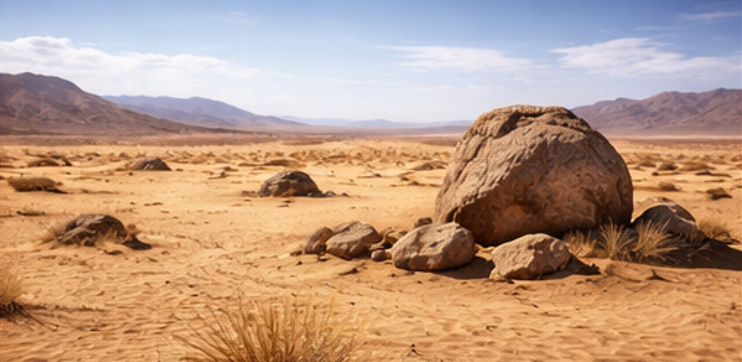rocks: (435, 106, 631, 245), (390, 222, 476, 270), (491, 233, 569, 278), (55, 213, 150, 249), (631, 201, 696, 235), (325, 222, 381, 258), (259, 169, 320, 196), (6, 177, 64, 192), (128, 156, 169, 169)
